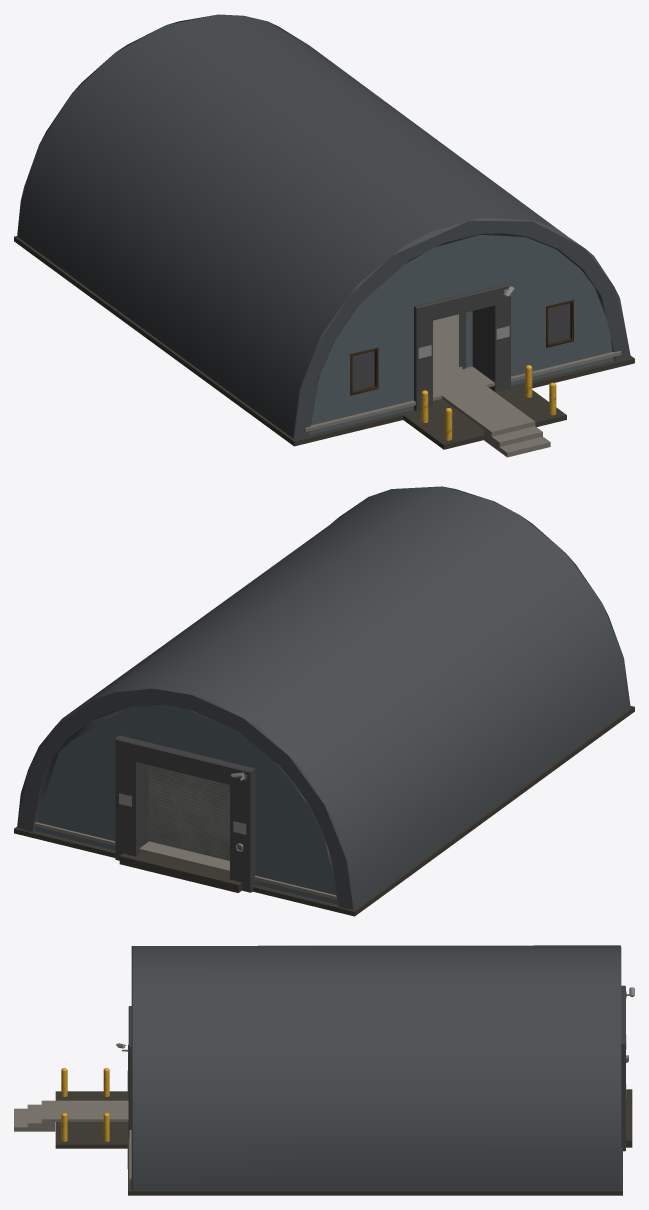
Rendered from barracks.zfix-v1.lod0.glb.
The picture shows the model from 3 angles, top to bottom: view 1: azimuth 30°, elevation 25°; view 2: azimuth 150°, elevation 25°; view 3: azimuth 270°, elevation 25°; orthographic projection. The views are drawn at different scales.
Visible parts, largest first — view 1: Object_7, Barricades_Barricades_map_0; view 2: Object_7, Object_13; view 3: Object_7, Barricades_Barricades_map_0.
Boxes of the visible parts, x1,y1,x2,y2 form: Object_7: [14, 14, 634, 457]; Barricades_Barricades_map_0: [421, 365, 556, 440]; Object_7: [14, 486, 634, 916]; Object_13: [148, 765, 229, 860]; Object_7: [14, 945, 634, 1195]; Barricades_Barricades_map_0: [61, 1068, 109, 1141].
Size of the model in its own units: 11.75 by 5.96 by 20.99.
Materials: 6 (4 with a texture image).
